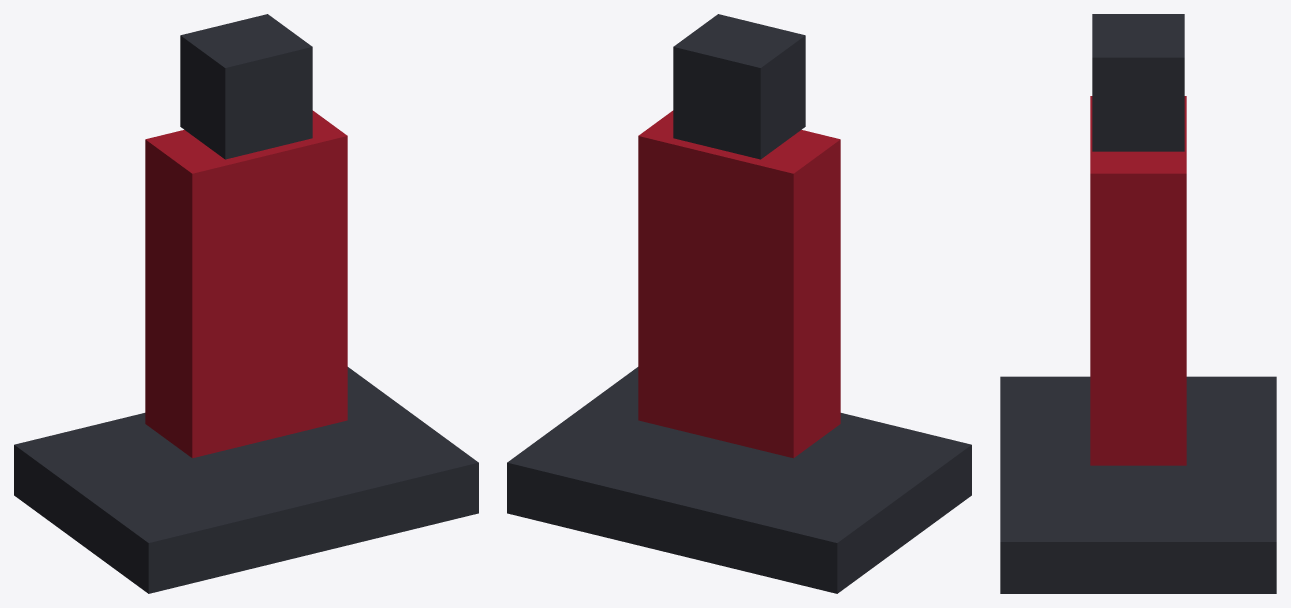
The model's file is red_citadel_statue.glb.
3 views of the same model, side by side, from view 1: azimuth 30°, elevation 25°; view 2: azimuth 150°, elevation 25°; view 3: azimuth 270°, elevation 25° (orthographic). The views are drawn at different scales.
Parts seen in each view (by area): view 1: part_1, part_0, part_2; view 2: part_1, part_0, part_2; view 3: part_0, part_1, part_2.
Boxes of the visible parts, x1,y1,x2,y2 form: part_1: (145, 110, 347, 458); part_0: (14, 367, 478, 593); part_2: (180, 14, 312, 159); part_1: (638, 110, 840, 458); part_0: (507, 367, 971, 593); part_2: (673, 14, 805, 159); part_0: (1000, 376, 1276, 593); part_1: (1090, 96, 1186, 465); part_2: (1092, 14, 1184, 151).
Bounding box in the file's own units: 1.7 × 2.28 × 1.2.
